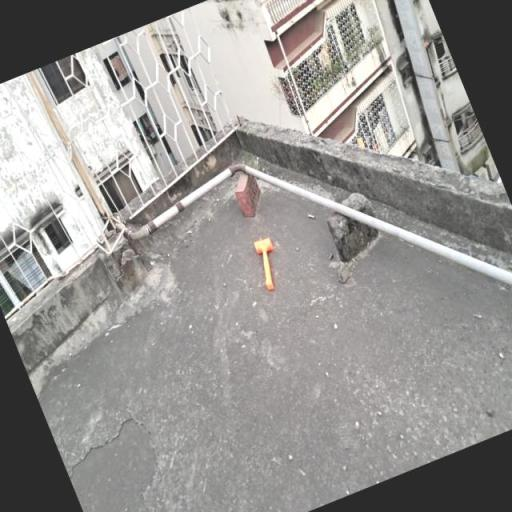mallet: (249, 236, 288, 290)
